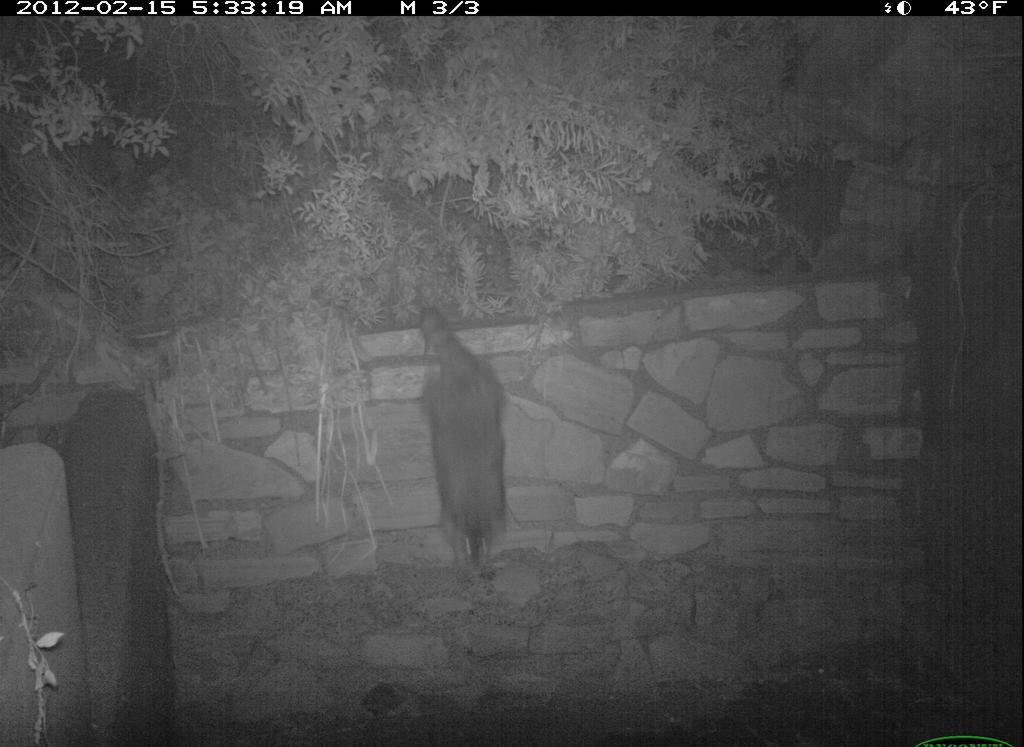raccoon: (410, 305, 519, 591)
